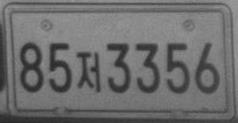2: (135, 42, 161, 93)
3: (106, 42, 131, 93)
5: (48, 41, 72, 93), (166, 42, 190, 93)
6: (194, 41, 220, 94)
8: (18, 41, 43, 93)
저: (75, 50, 101, 91)
